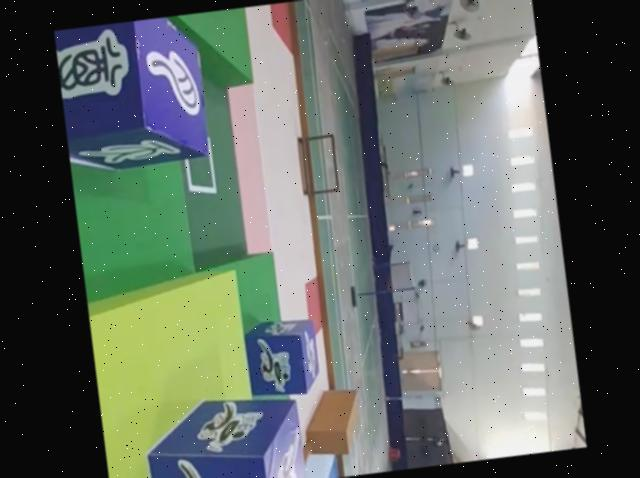R1 Blue: (138, 388, 306, 478), (241, 313, 322, 399)
R2 Fake Blue: (54, 14, 215, 175)
